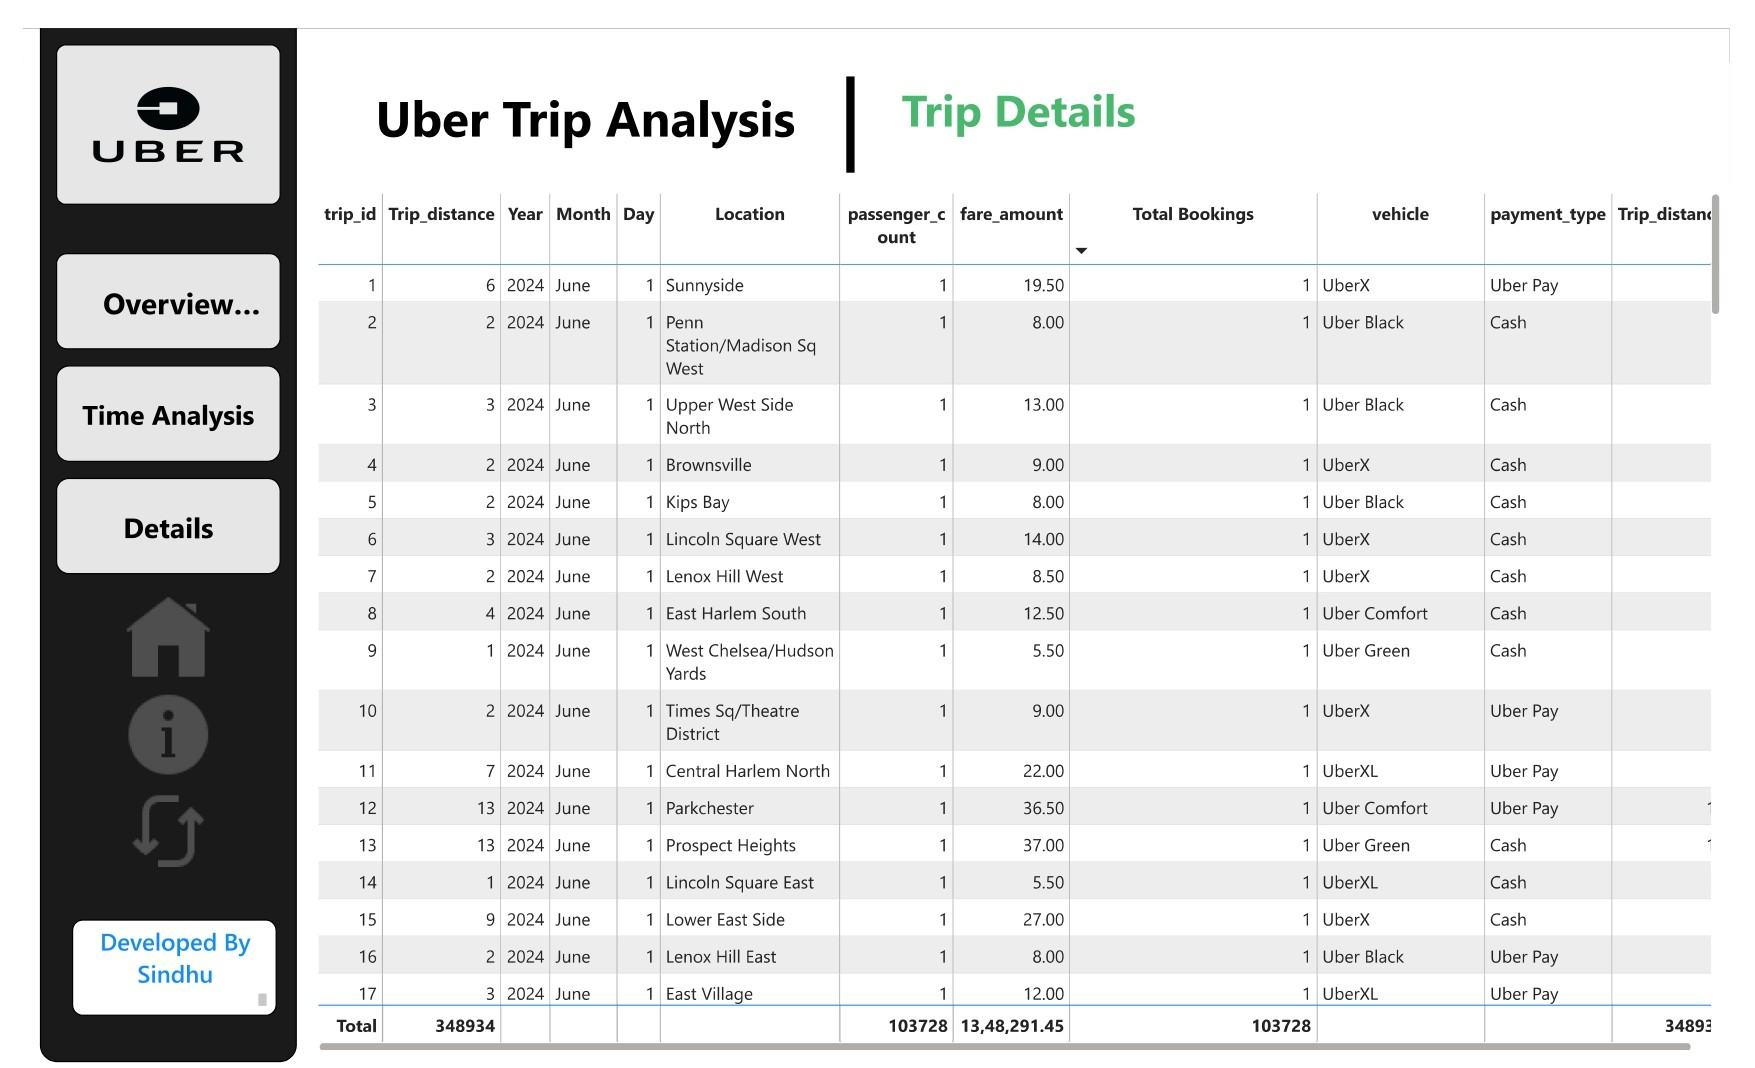

The dashboard page shown, as its layout file describes it:
{"tool":"powerbi","page":{"name":"Details","canvas":[1700,1030],"ordinal":2},"visuals":[{"type":"shape","box":[16,-90,256,1120],"z":0},{"type":"textbox","title":"Developed By Sindhu","box":[48,888,204.3,96],"z":0,"group":"g1"},{"type":"image","box":[32,16,224,160],"z":1000},{"type":"actionButton","title":"Time Analysis","box":[32,336,224,96],"z":2000},{"type":"actionButton","box":[32,224,224,96],"z":3000},{"type":"actionButton","title":"Details","box":[32,448,224,96],"z":4000},{"type":"group","id":"g1","title":"Group 1","box":[48,888,224,112],"z":5000},{"type":"image","box":[96,560,96,96],"z":6000},{"type":"image","box":[96,656,96,96],"z":7000},{"type":"image","box":[96,752,96,96],"z":8000},{"type":"tableEx","fields":{"Values":["Trip Details.trip_id","Sum(Trip Details.trip_distance)","Trip Details.pickup_time.Variation.Date Hierarchy.Year","Trip Details.pickup_time.Variation.Date Hierarchy.Month","Trip Details.pickup_time.Variation.Date Hierarchy.Day","Dropoff_Location.Location","CountNonNull(Trip Details.passenger_count)","Sum(Trip Details.fare_amount)","CountNonNull(Trip Details.trip_id)1","Trip Details.vehicle","Trip Details.payment_type","Sum(Trip Details.trip_distance)"]},"box":[288,160,1408,864],"z":9000},{"type":"shape","box":[240,16,640,144],"z":9001},{"type":"shape","box":[768,48,112,96],"z":9002},{"type":"shape","box":[784,16,416,128],"z":9003}]}

Visuals, with their boxes in screenshot pixels (x1, y1, x2, y2), scaled from the page's 1700x1030 canvas onto the 1755x1068 screenshot:
shape: locate(17, 0, 281, 1067)
"Developed By Sindhu" textbox: locate(50, 921, 260, 1020)
image: locate(33, 17, 264, 182)
"Time Analysis" actionButton: locate(33, 348, 264, 448)
actionButton: locate(33, 232, 264, 332)
"Details" actionButton: locate(33, 465, 264, 564)
"Group 1" group: locate(50, 921, 281, 1037)
image: locate(99, 581, 198, 680)
image: locate(99, 680, 198, 780)
image: locate(99, 780, 198, 879)
tableEx - Trip Details.trip_id x Sum(Trip Details.trip_distance): locate(297, 166, 1751, 1062)
shape: locate(248, 17, 908, 166)
shape: locate(793, 50, 908, 149)
shape: locate(809, 17, 1239, 149)
